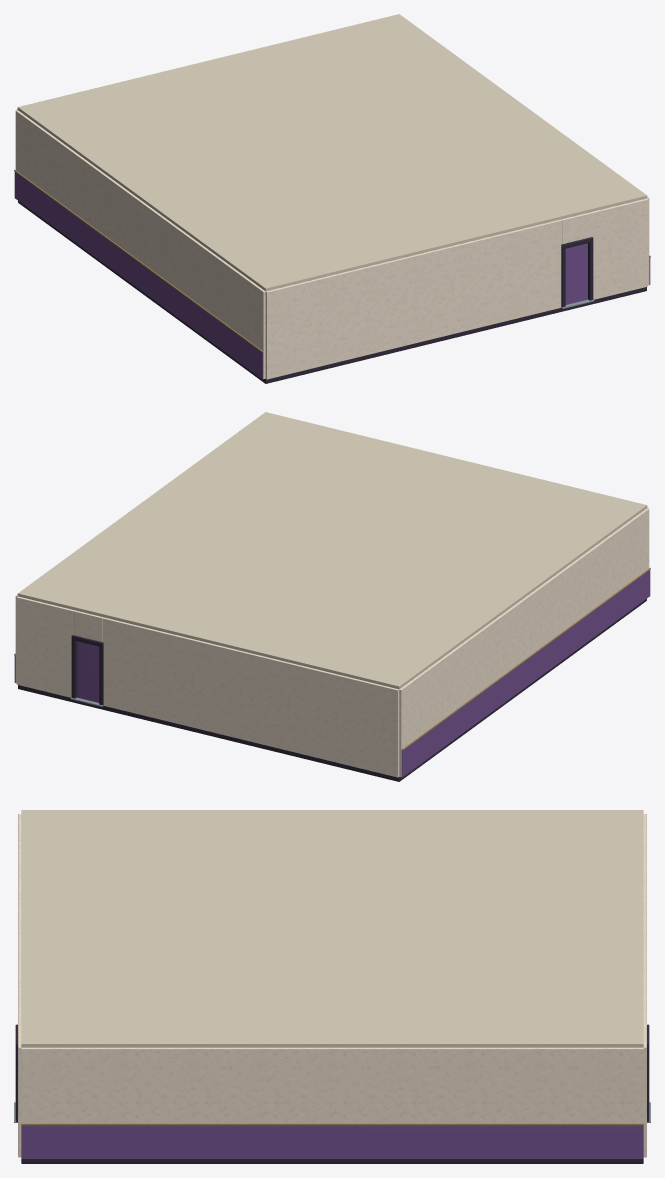
Rendered from mirror_maze.glb.
3 renders of one model, top to bottom at view 1: azimuth 30°, elevation 25°; view 2: azimuth 150°, elevation 25°; view 3: azimuth 270°, elevation 25°, orthographic. The views are drawn at different scales.
Parts seen in each view (by area): view 1: ceiling.015, wall.039, wall.042, lower_panel.041, wall.038, mirror_maze_floor, front.020_leaf, door_lintel.009, panel_rail.041; view 2: ceiling.015, wall.040, wall.042, lower_panel.041, wall.041, mirror_maze_floor, north.007_leaf, door_lintel.010, panel_rail.041; view 3: ceiling.015, wall.043, lower_panel.042, mirror_maze_floor, panel_rail.042, wall.039, wall.040, wall.038, wall.041.
Part boxes in pixels (box(x1,y1,x2,y2)): ceiling.015: box(17, 14, 647, 291); wall.039: box(265, 219, 562, 379); wall.042: box(15, 110, 265, 379); lower_panel.041: box(14, 172, 263, 379); wall.038: box(590, 198, 648, 299); mirror_maze_floor: box(18, 201, 646, 383); front.020_leaf: box(565, 243, 587, 304); door_lintel.009: box(562, 212, 590, 243); panel_rail.041: box(14, 169, 262, 352); ceiling.015: box(17, 412, 647, 689); wall.040: box(102, 617, 399, 777); wall.042: box(399, 508, 649, 777); lower_panel.041: box(401, 570, 650, 777); wall.041: box(16, 596, 74, 697); mirror_maze_floor: box(18, 599, 646, 781); north.007_leaf: box(77, 641, 99, 702); door_lintel.010: box(74, 610, 102, 641); panel_rail.041: box(402, 567, 650, 750); ceiling.015: box(21, 810, 643, 1047); wall.043: box(21, 1047, 643, 1123); lower_panel.042: box(21, 1125, 643, 1159); mirror_maze_floor: box(21, 1159, 643, 1163); panel_rail.042: box(21, 1123, 643, 1125); wall.039: box(18, 814, 21, 995); wall.040: box(643, 814, 646, 995); wall.038: box(18, 1012, 21, 1157); wall.041: box(643, 1012, 646, 1157).
Size of the model in its own units: 16.32 by 3.84 by 18.42.
Materials: 9 (2 with a texture image).
